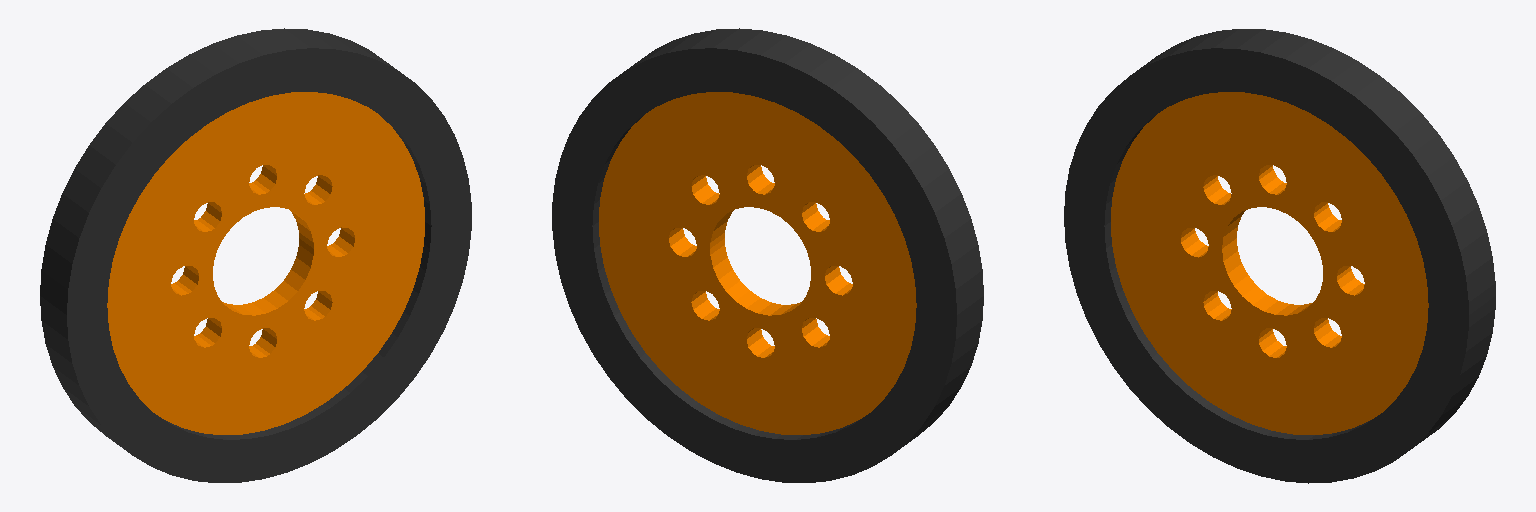
File: ROB-12530.obj
3 renders of one model, left to right at view 1: azimuth 30°, elevation 25°; view 2: azimuth 150°, elevation 25°; view 3: azimuth 330°, elevation 25°, orthographic.
Visible parts, largest first — view 1: mesh 2 Boss-Extrude1, mesh 1 RO; view 2: mesh 2 Boss-Extrude1, mesh 1 RO; view 3: mesh 2 Boss-Extrude1, mesh 1 RO.
Boxes of the visible parts, box(x1,y1,x2,y2) form: mesh 2 Boss-Extrude1: box(107, 92, 424, 434); mesh 1 RO: box(40, 28, 471, 482); mesh 2 Boss-Extrude1: box(599, 92, 916, 434); mesh 1 RO: box(552, 28, 983, 482); mesh 2 Boss-Extrude1: box(1111, 92, 1428, 434); mesh 1 RO: box(1064, 29, 1495, 483).
Bounding box in the file's own units: 0.0508 × 0.0508 × 0.0058.